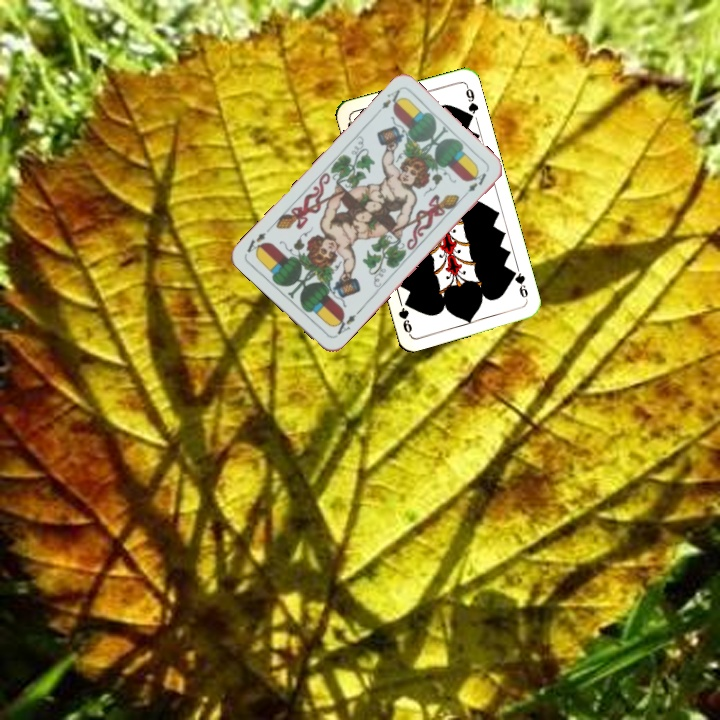EA: (330, 306, 363, 340), (377, 85, 405, 112)
G9: (507, 265, 531, 304)
